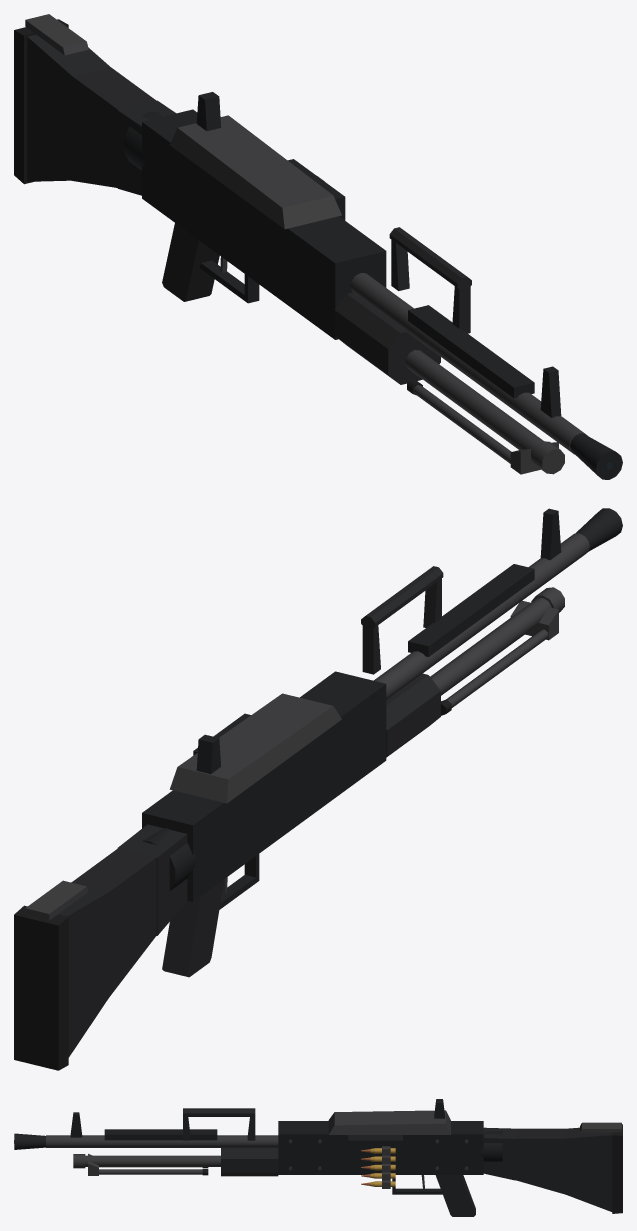
3 renders of one model, top to bottom at view 1: azimuth 30°, elevation 25°; view 2: azimuth 150°, elevation 25°; view 3: azimuth 270°, elevation 25°, orthographic. The views are drawn at different scales.
Parts seen in each view (by area): view 1: m240b; view 2: m240b; view 3: m240b.
Boxes of the visible parts, <box> form: m240b: <box>14,14,622,479</box>; m240b: <box>14,508,622,1070</box>; m240b: <box>14,1099,622,1216</box>.
Size of the model in its own units: 0.1373 by 0.254 by 1.25.
1 material, 1 textured.
